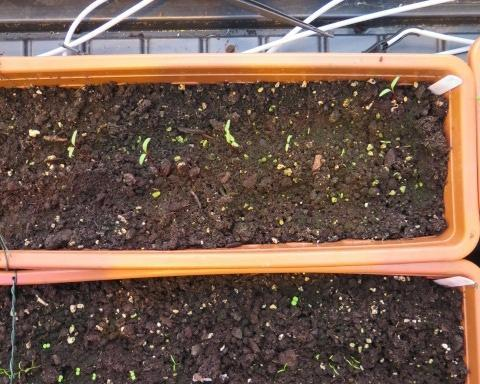crop: (375, 74, 399, 96), (136, 135, 153, 165), (64, 127, 78, 158), (281, 132, 293, 153)
weed: (287, 293, 299, 306), (71, 363, 81, 376), (127, 368, 136, 381), (40, 341, 50, 348)
